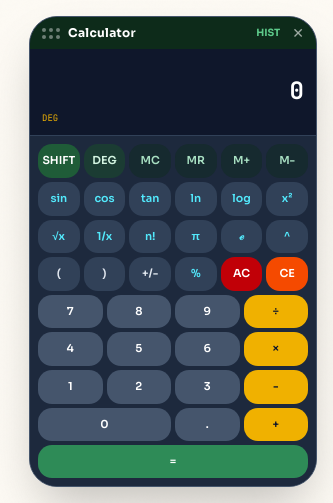
Test: CalculatorModal › scientific functions › calculates square root
Step 1. Click the button "9" → (207, 312), box 175,295 -> 240,328
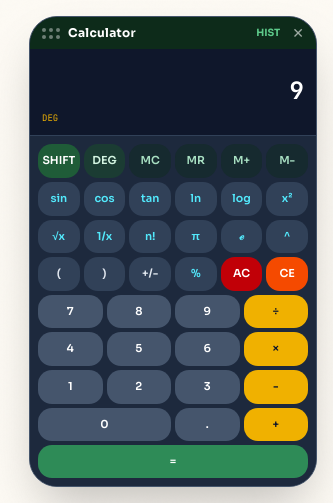
Step 2. Click the button "√x" → (59, 236), box 38,220 -> 80,253
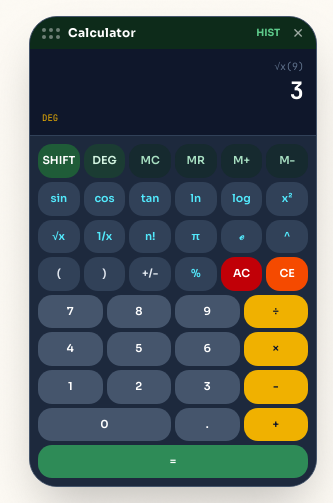
Now the text "3" is shown, box 290,75 -> 304,106
